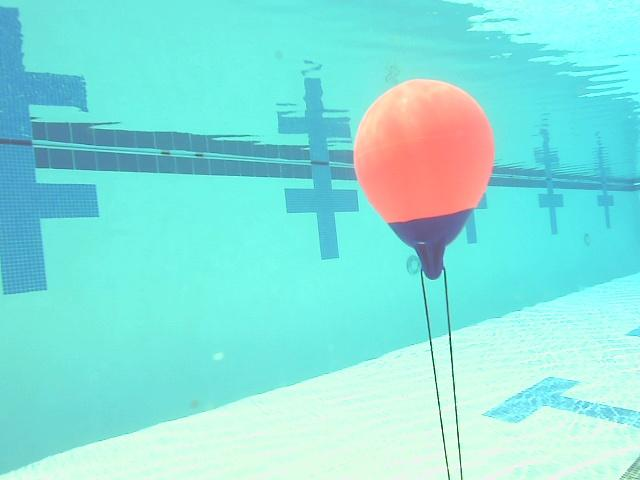buoy: (355, 78, 495, 280)
